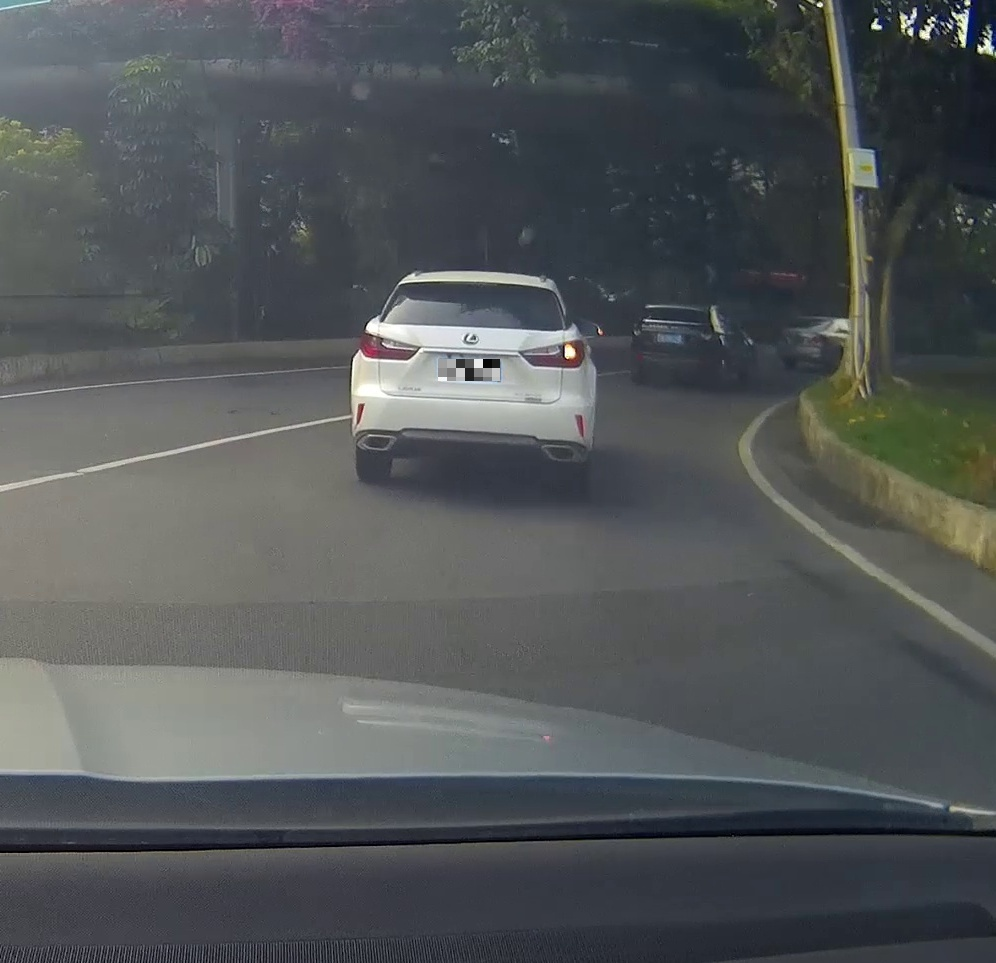L_light: (359, 331, 421, 361)
R_light: (518, 340, 586, 368)
T_light: (458, 284, 491, 289)
day-right: (351, 276, 597, 482)
plate_1: (438, 359, 500, 381)
